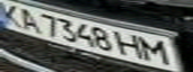3: (54, 16, 78, 44)
4: (72, 21, 96, 47)
7: (36, 11, 60, 38)
8: (90, 25, 115, 53)
A: (12, 6, 45, 33)
H: (115, 30, 145, 59)
K: (0, 0, 27, 28)
M: (139, 35, 175, 65)
